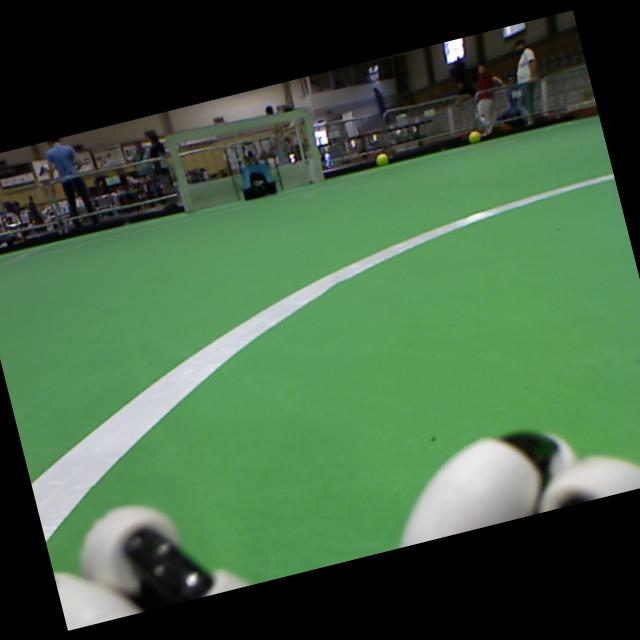ball: (375, 152, 386, 164), (470, 131, 480, 142)
goal: (168, 133, 193, 213), (301, 107, 323, 181)
